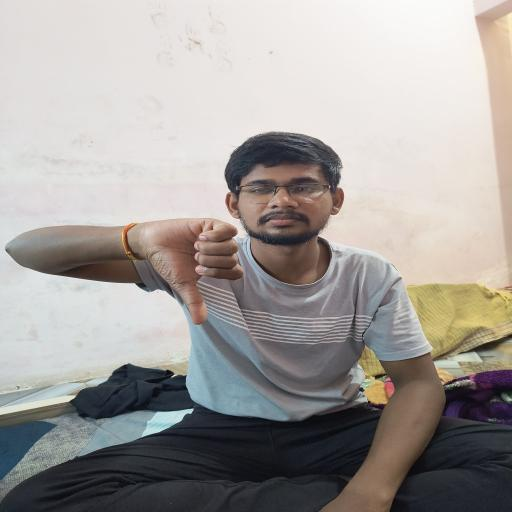Continue: (125, 201, 254, 334)
